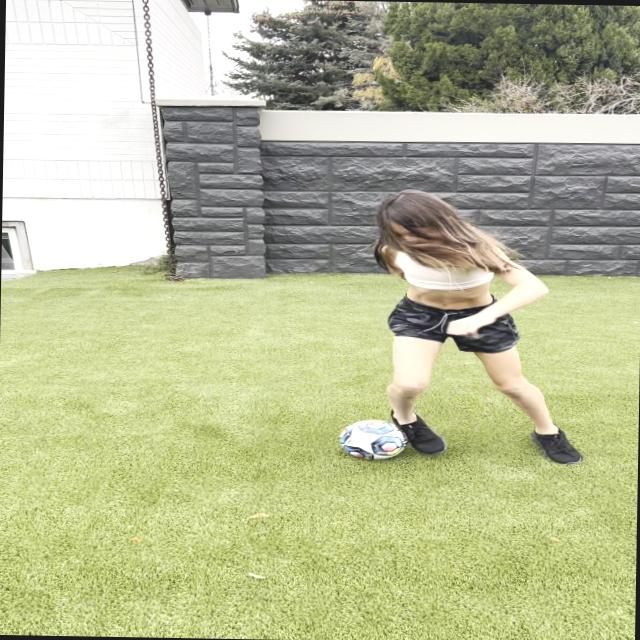Soccer Ball: (338, 419, 409, 460)
